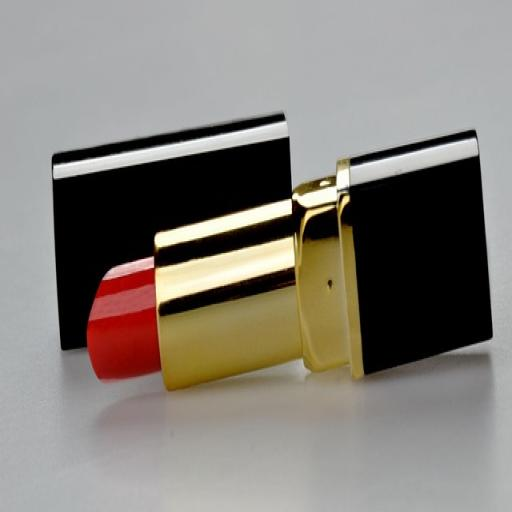lipstick: (147, 131, 491, 389)
